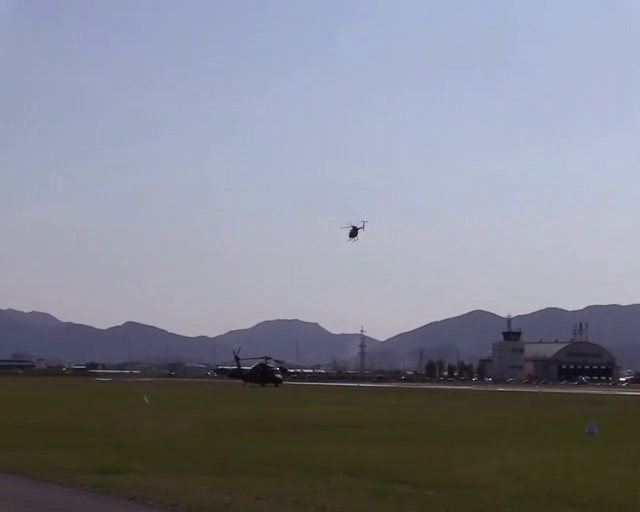HELICOPTER: (338, 219, 368, 241)
